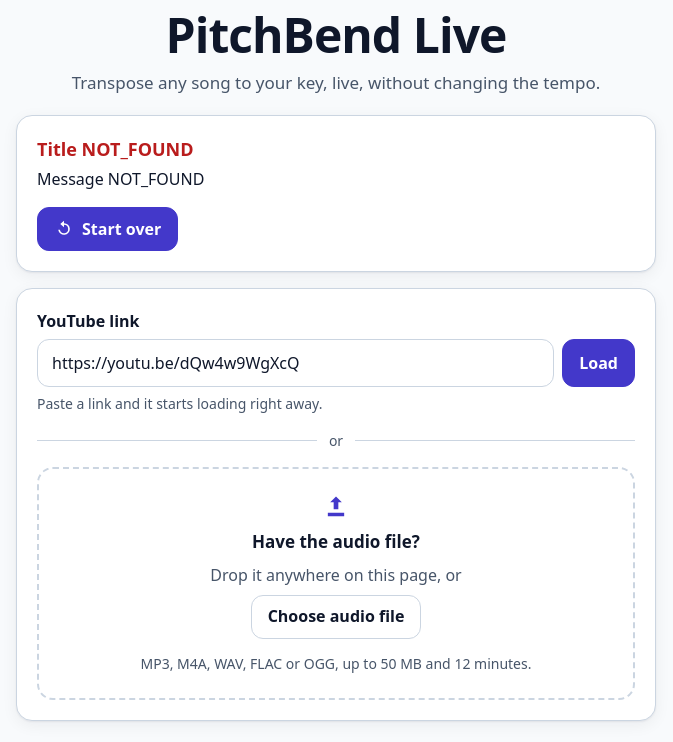
Test case: App › NOT_FOUND offers start over
The width and height of the screenshot is (673, 742).
Click the button "Start over".
click(108, 229)  # box [37,207,178,251]
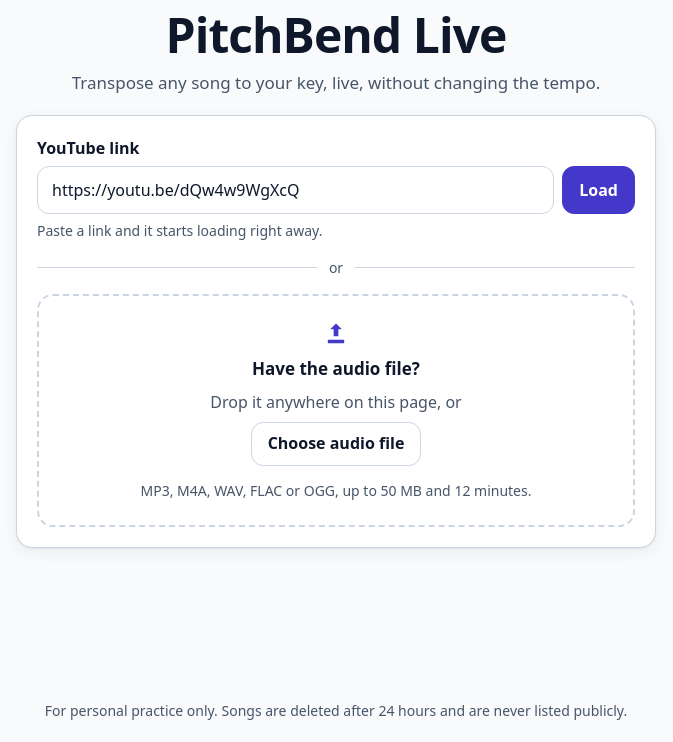
Expected: the heading "Title NOT_FOUND" is gone
